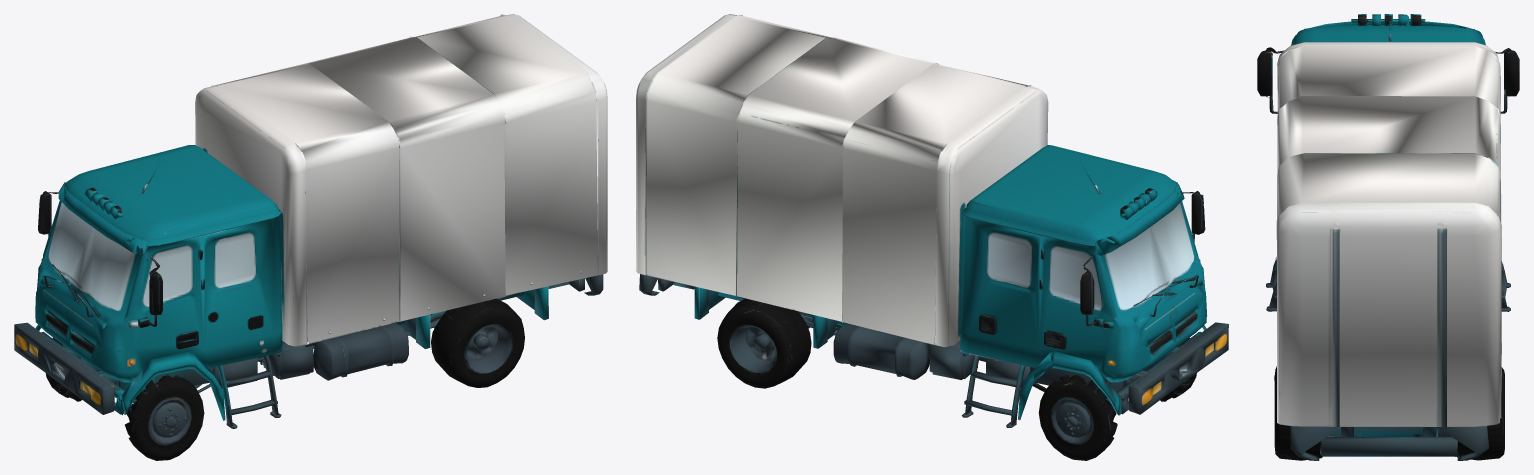
File: trafficBoxtruck.dc0de02c.glb
The picture shows the model from 3 angles, left to right: view 1: azimuth 30°, elevation 25°; view 2: azimuth 150°, elevation 25°; view 3: azimuth 270°, elevation 25°; orthographic projection. The views are drawn at different scales.
Size of the model in its own units: 0.957 by 0.5107 by 0.3882.
Materials: 1 (1 with a texture image).
